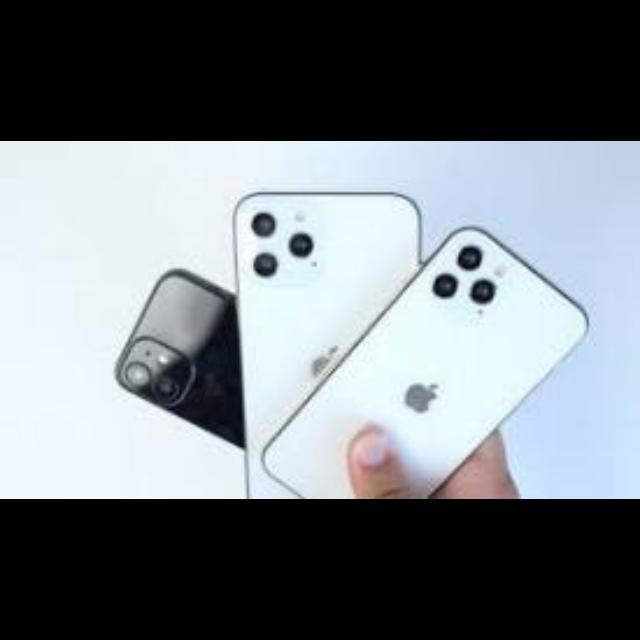PhoneUse: (264, 226, 592, 498), (233, 192, 419, 500), (112, 268, 242, 447)
